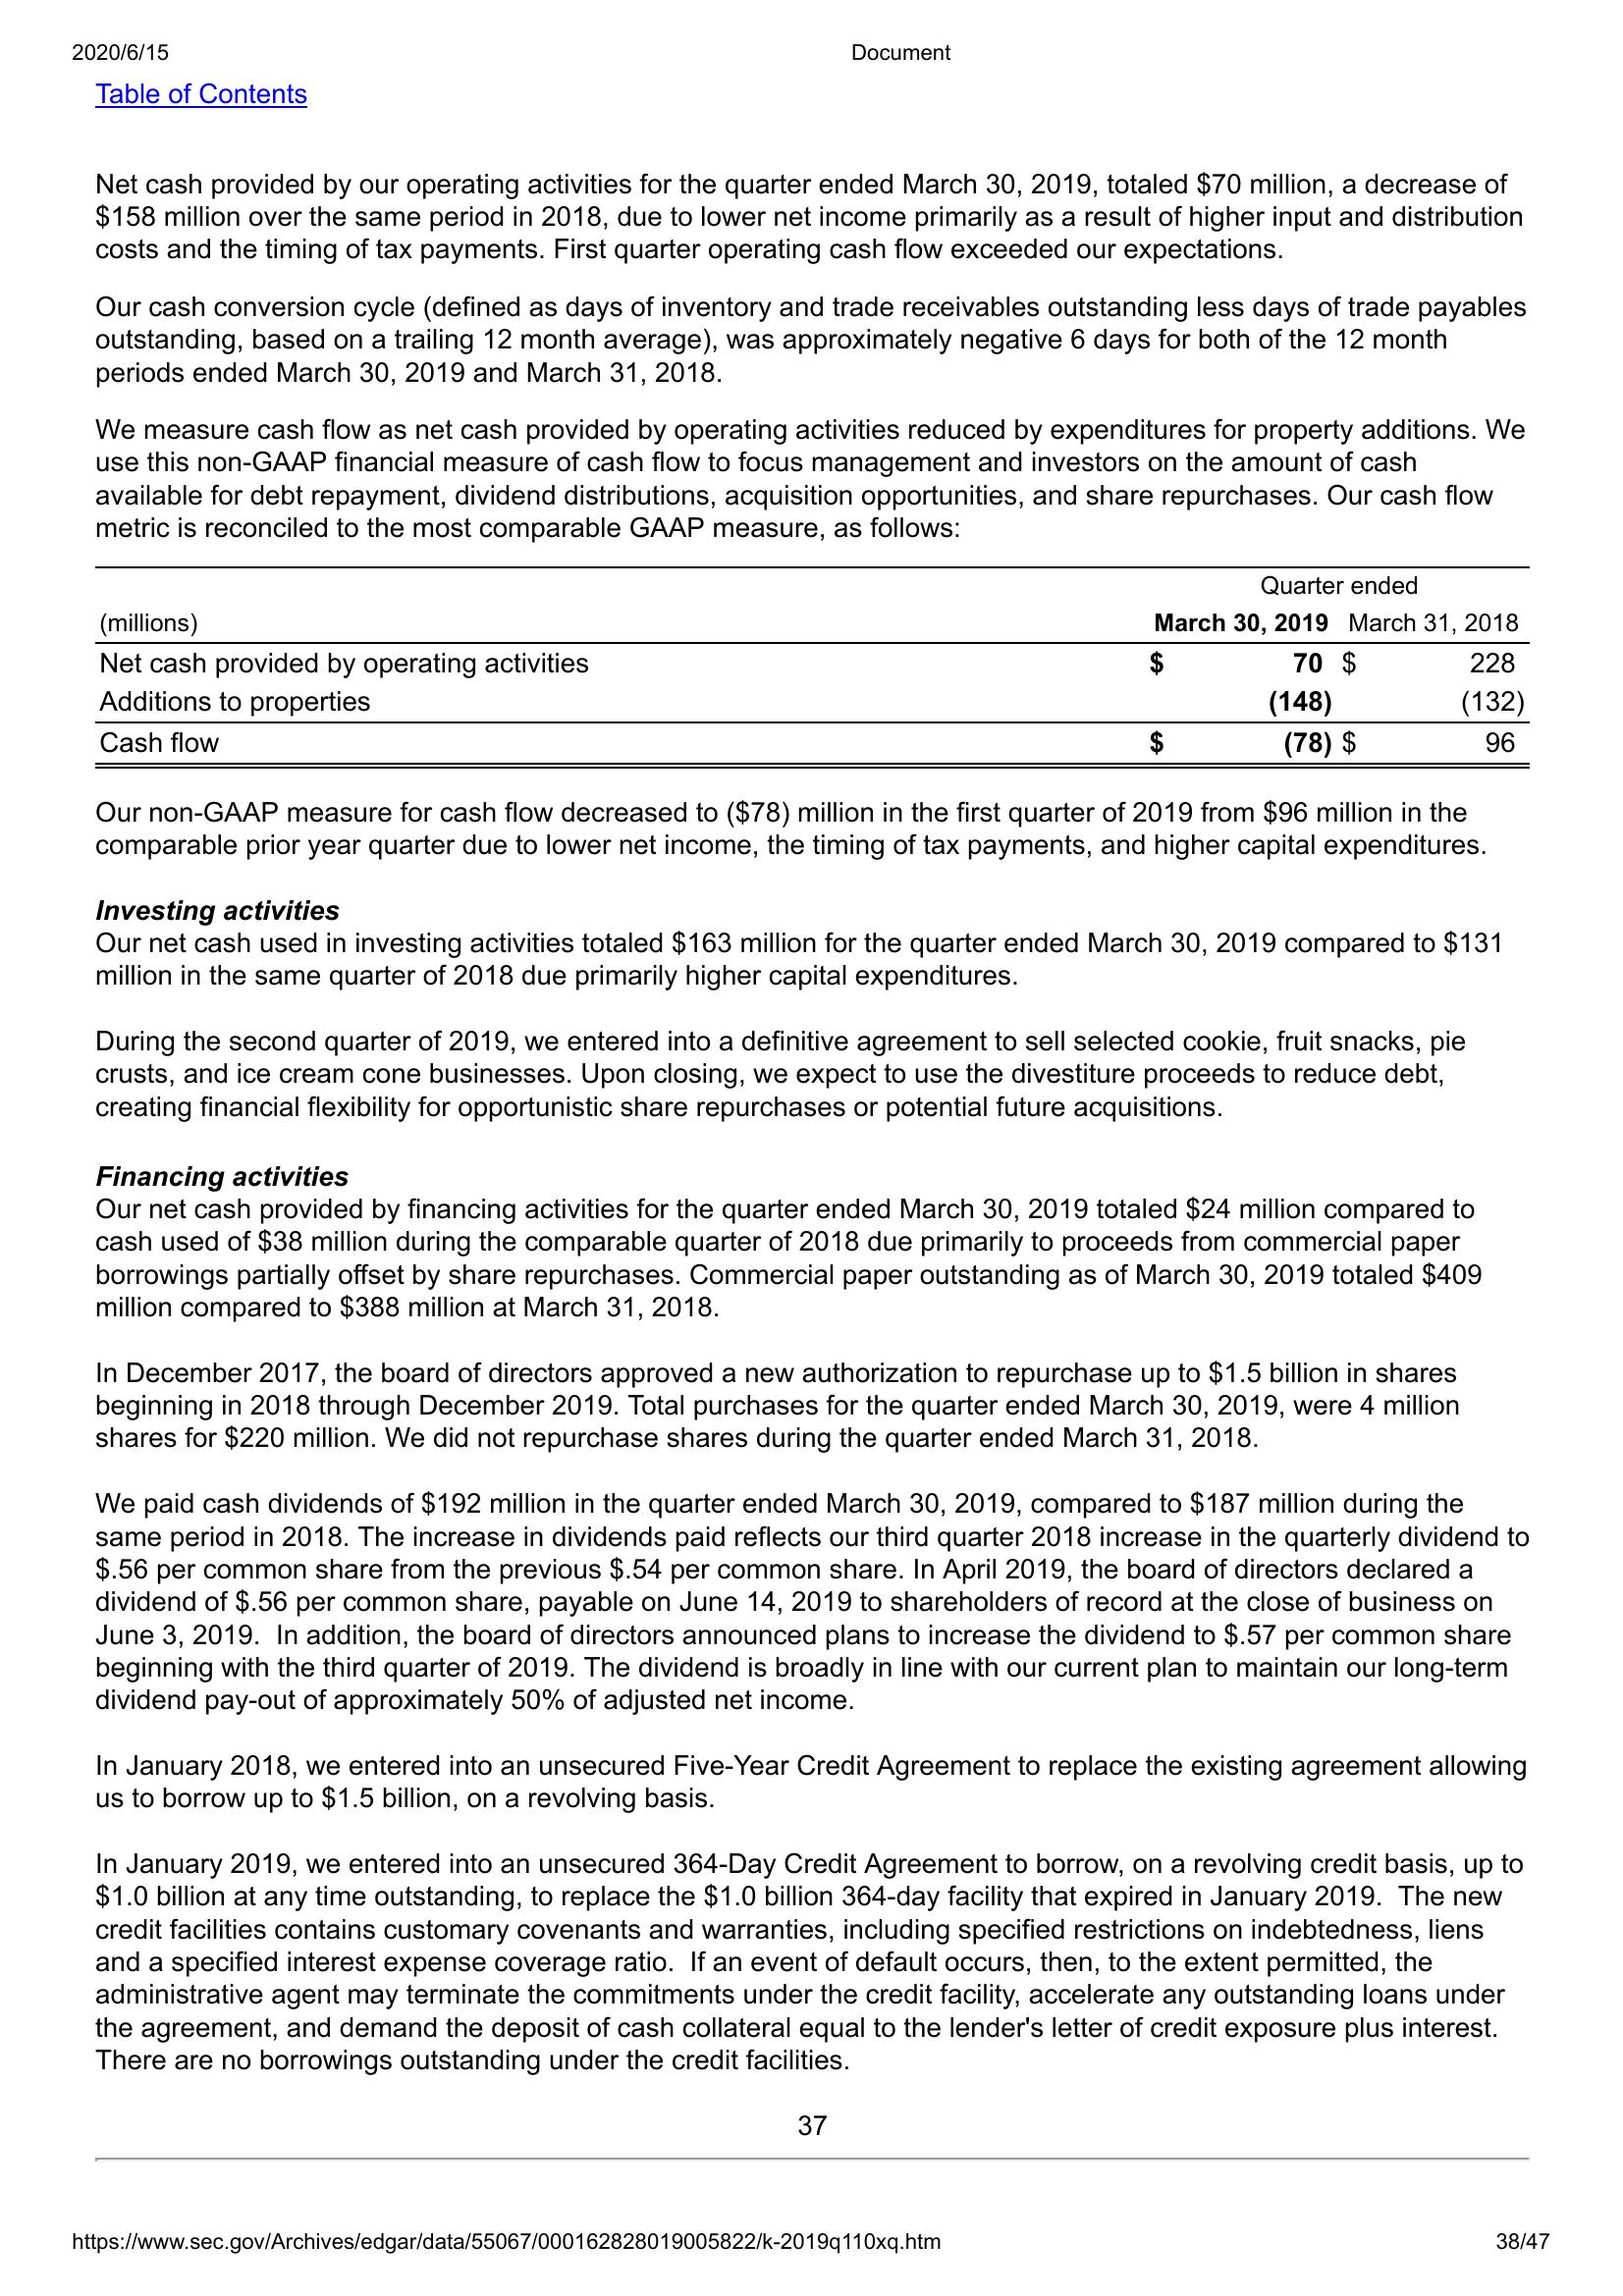table: (88, 562, 1530, 772)
